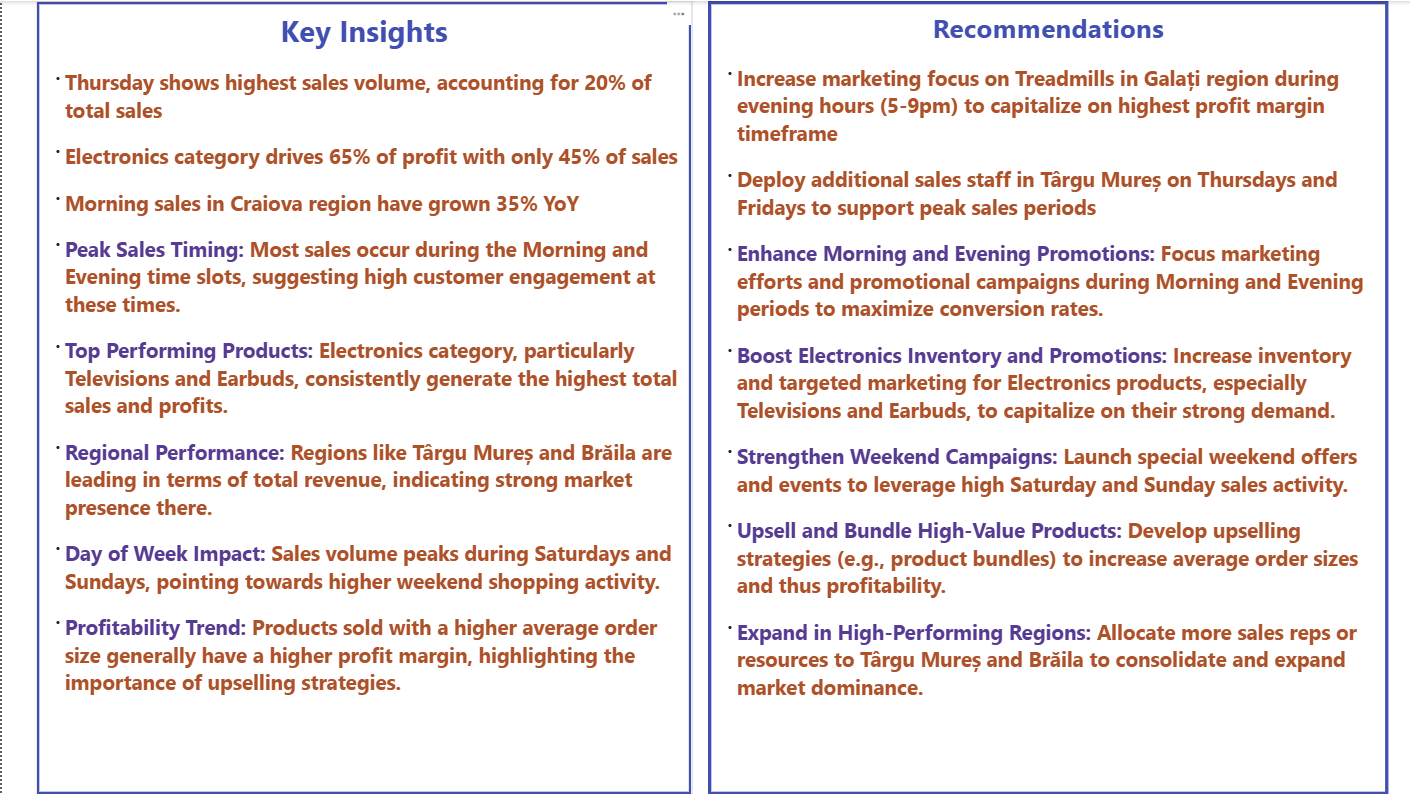

The page's visual inventory and layout, read from the dashboard file:
{"tool":"powerbi","page":{"name":"Report","canvas":[1280,720],"ordinal":4},"visuals":[{"type":"textbox","box":[30.7,0,595.3,719.6],"z":5000},{"type":"textbox","box":[640.6,0,617.2,719.6],"z":6000}]}

Visuals, with their boxes in screenshot pixels (x1, y1, x2, y2), scaled from the page's 1280x720 canvas onto the 1410x794 screenshot:
textbox: (left=34, top=0, right=690, bottom=793)
textbox: (left=706, top=0, right=1386, bottom=793)
